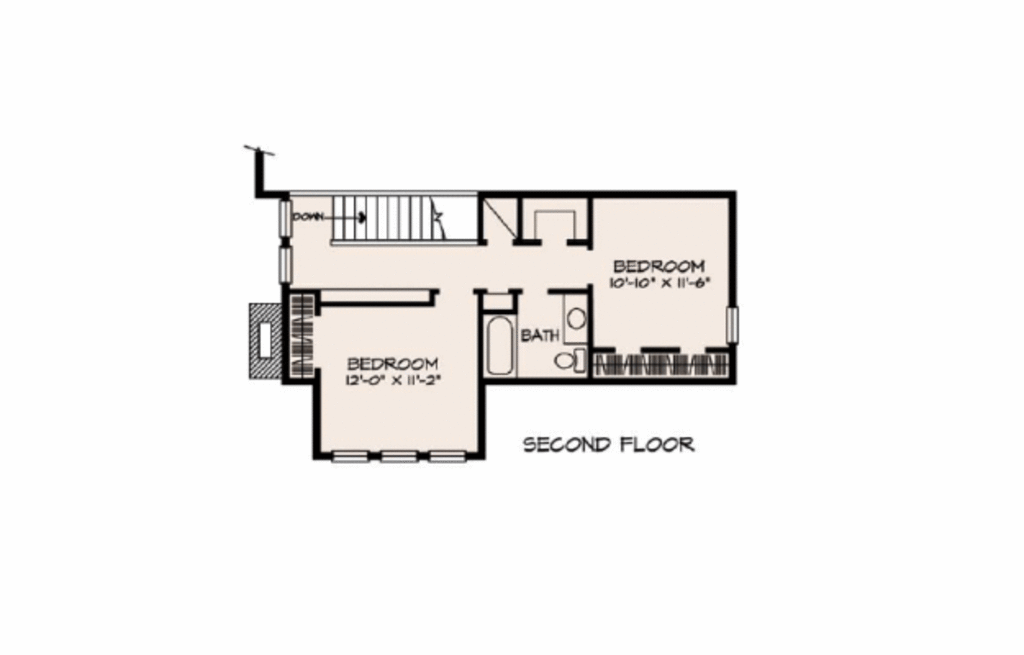large_sink: (548, 347, 589, 377)
small_sink: (552, 297, 589, 338)
stairs: (313, 193, 493, 249)
tub: (473, 312, 526, 379)
window: (329, 447, 469, 467), (272, 193, 299, 290), (716, 308, 746, 348)
